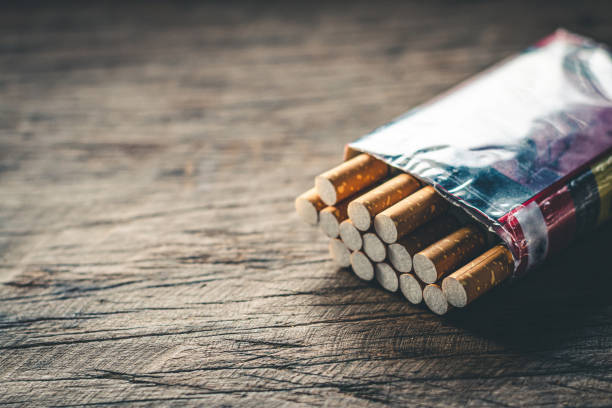cigarette: (343, 30, 612, 282), (387, 208, 471, 272), (441, 241, 518, 309), (412, 222, 496, 284), (348, 172, 423, 233), (313, 149, 391, 207), (375, 186, 452, 243), (293, 187, 324, 223), (317, 203, 346, 239), (422, 281, 451, 316), (360, 230, 386, 264), (399, 272, 425, 304), (349, 252, 375, 281), (375, 263, 400, 293), (340, 219, 362, 253), (329, 239, 351, 268)
